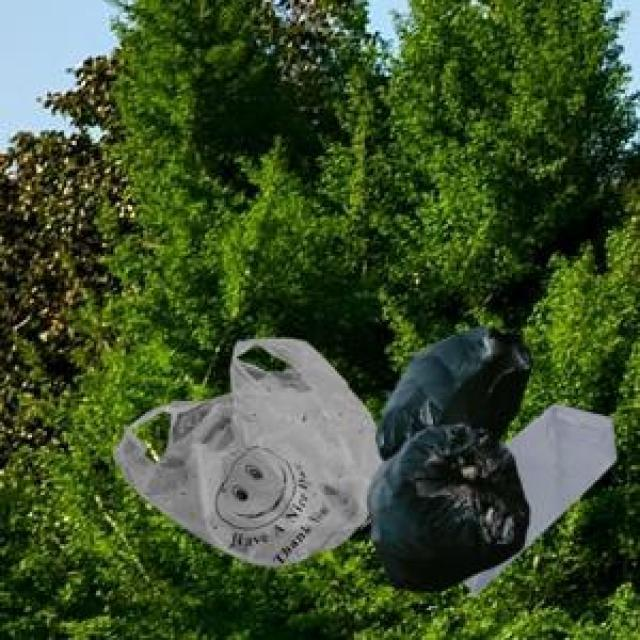miscellaneous trash: (363, 322, 527, 589)
